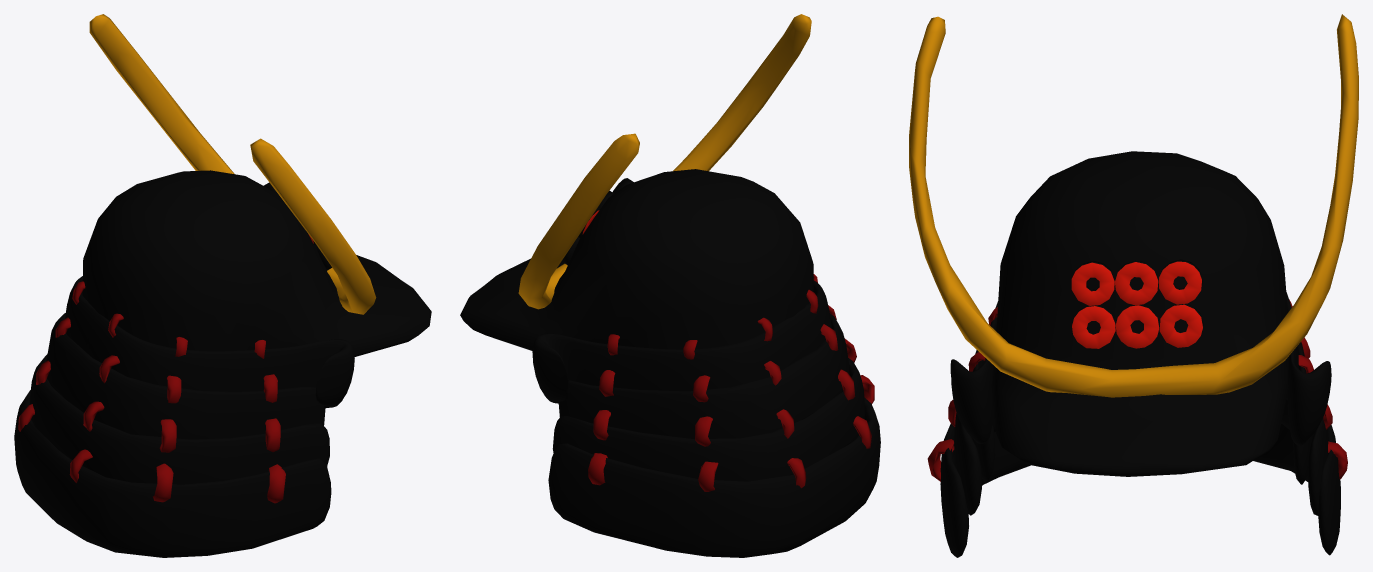
Rendered from Japanese_Helmet.glb.
3 renders of one model, left to right at view 1: azimuth 30°, elevation 25°; view 2: azimuth 150°, elevation 25°; view 3: azimuth 270°, elevation 25°, orthographic. The views are drawn at different scales.
Parts seen in each view (by area): view 1: Cube.004, Cube, Cube.001, Cube.006, Torus.003; view 2: Cube.004, Cube, Cube.001, Cube.006, Torus.003, Cylinder; view 3: Cube, Cube.006, Cube.004, Cylinder, Cube.001, Torus.003.
Boxes of the visible parts, bbox=[...] form: Cube.004: bbox=[14, 313, 331, 557]; Cube: bbox=[82, 170, 431, 356]; Cube.001: bbox=[65, 276, 354, 408]; Cube.006: bbox=[89, 14, 376, 314]; Torus.003: bbox=[18, 281, 285, 503]; Cube.004: bbox=[548, 314, 880, 557]; Cube: bbox=[460, 169, 813, 350]; Cube.001: bbox=[532, 280, 831, 403]; Cube.006: bbox=[518, 14, 811, 309]; Torus.003: bbox=[588, 274, 874, 491]; Cylinder: bbox=[561, 178, 633, 265]; Cube: bbox=[991, 151, 1288, 476]; Cube.006: bbox=[909, 14, 1358, 397]; Cube.004: bbox=[940, 342, 1340, 557]; Cylinder: bbox=[1071, 259, 1203, 348]; Cube.001: bbox=[950, 292, 1331, 445]; Torus.003: bbox=[927, 299, 1347, 481].
Bounding box in the file's own units: 2.1 × 2.35 × 1.87.
